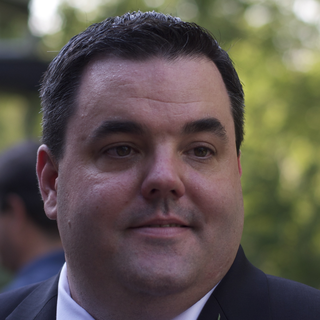eye: (176, 141, 224, 165), (95, 141, 144, 162)
